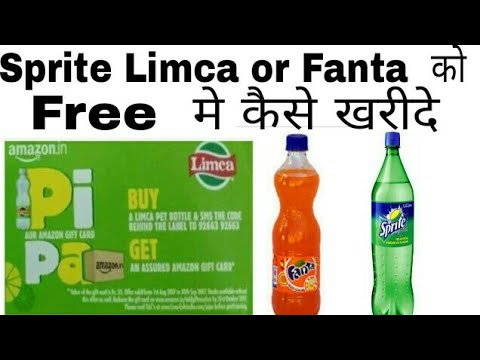fanta: (272, 137, 322, 313)
